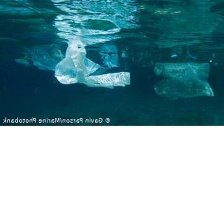plastic_bag: (50, 38, 133, 91), (148, 58, 215, 103)
